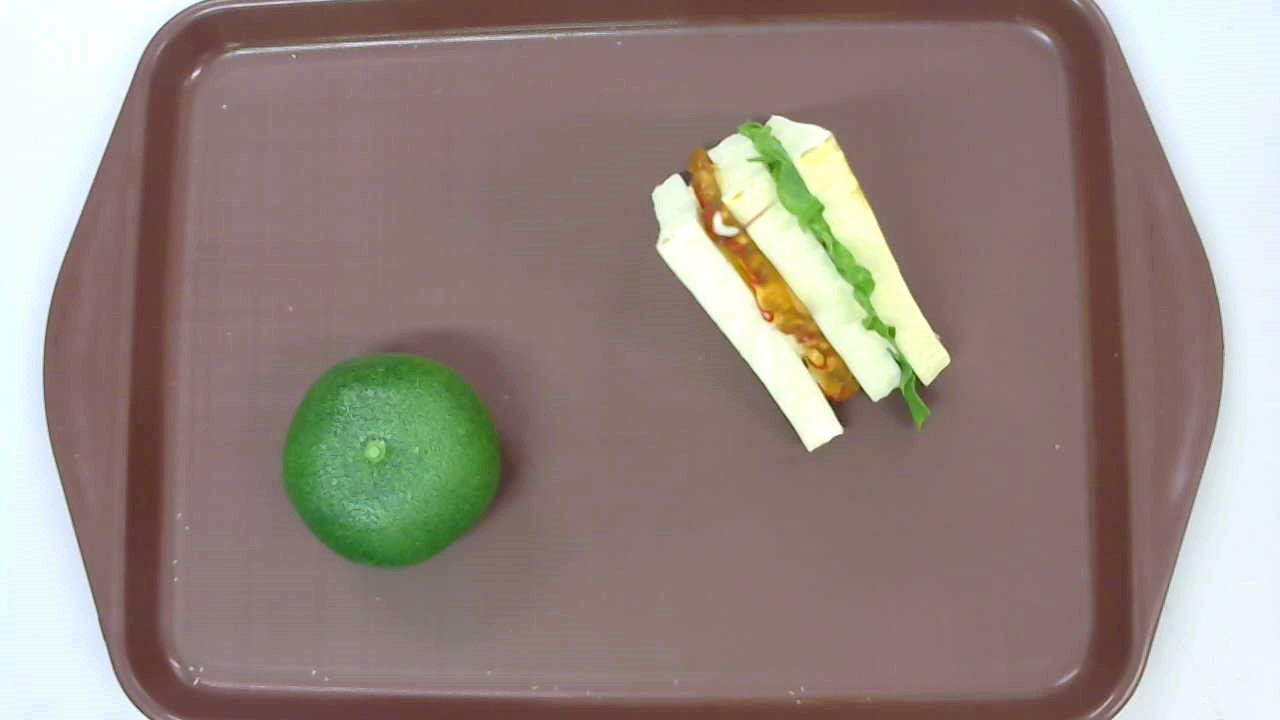green orange: (281, 352, 502, 568)
sandwich: (651, 114, 952, 452)
